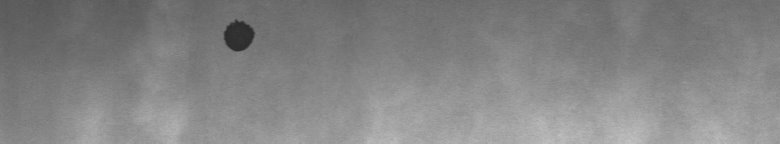fi: (216, 12, 260, 60)
